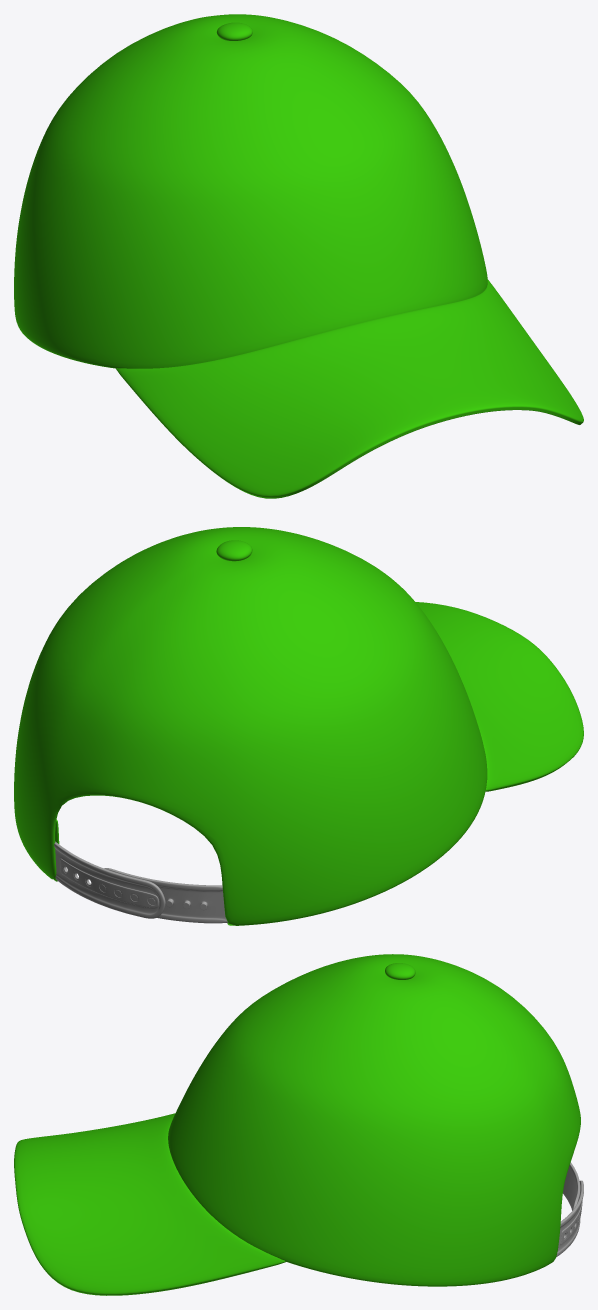
File: baseball_cap.glb
The picture shows the model from 3 angles, top to bottom: view 1: azimuth 30°, elevation 25°; view 2: azimuth 150°, elevation 25°; view 3: azimuth 270°, elevation 25°; orthographic projection. The views are drawn at different scales.
Parts seen in each view (by area): view 1: baseballCap (×2); view 2: baseballCap (×3), plastic (×2); view 3: baseballCap (×2), plastic (×2).
Part boxes in pixels (x1=…): baseballCap (×2): x1=14, y1=14, x2=583, y2=498; baseballCap (×3): x1=14, y1=527, x2=583, y2=925; plastic (×2): x1=54, y1=841, x2=227, y2=923; baseballCap (×2): x1=14, y1=954, x2=580, y2=1295; plastic (×2): x1=556, y1=1162, x2=583, y2=1256.
Size of the model in its own units: 191 by 133 by 265.
